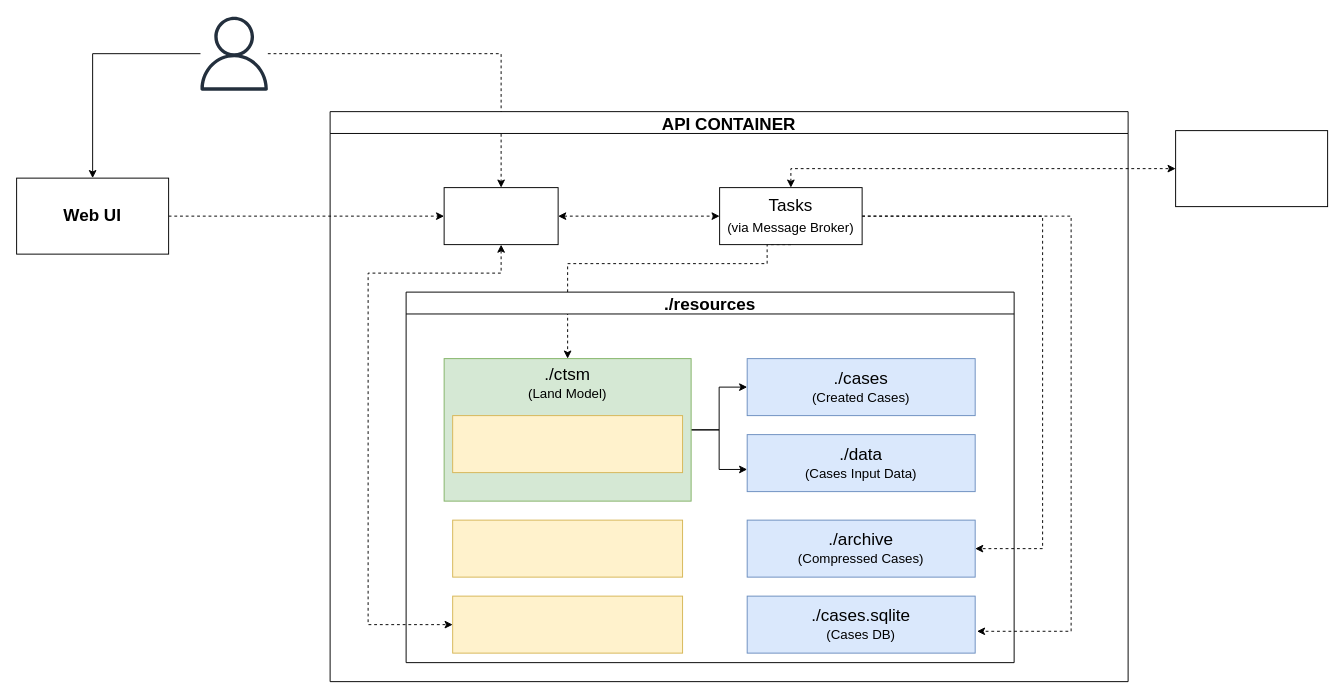
This 1344x698 diagram has some shape labels left out. Each missing label, with the centre of its shape:
"./config (Sites and Variables Configuration)" belongs at point 567,624.
"./dotcime -> ~/.cime (Machine Configuration)" belongs at point 567,548.
"./overwrites (Land Model Overwrites)" belongs at point 567,444.
"API" belongs at point 500,216.
"Message Broker (RabbitMQ)" belongs at point 1251,168.
